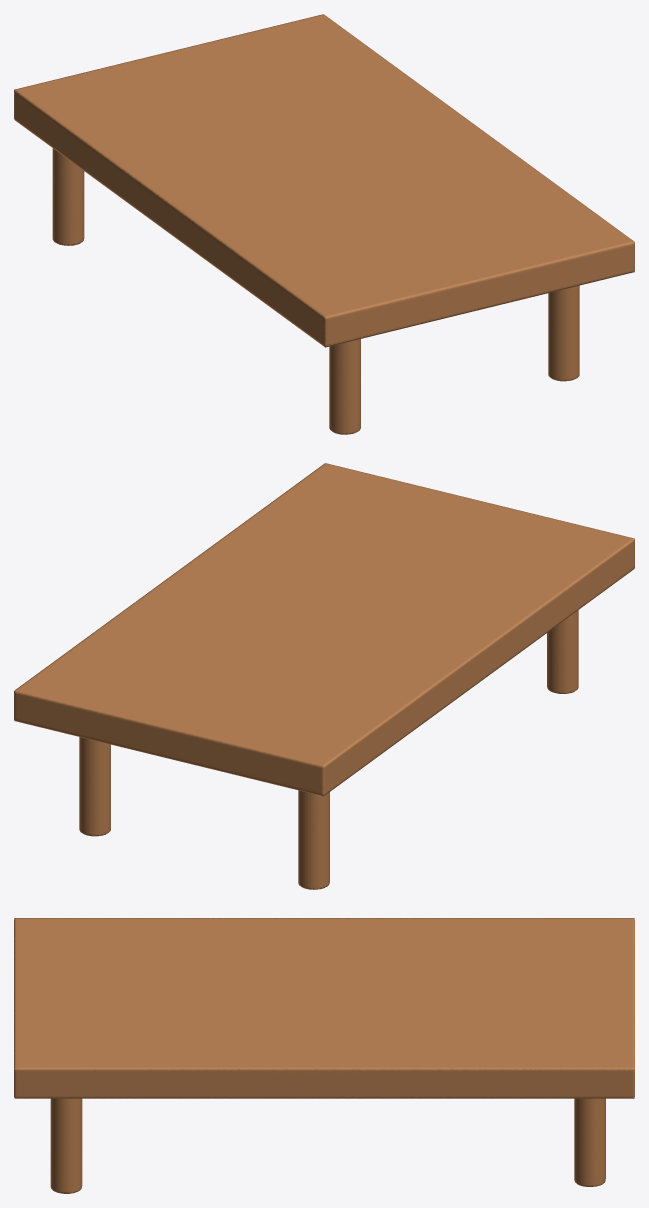
The model's file is shortTable_compressed.glb.
The picture shows the model from 3 angles, top to bottom: view 1: azimuth 30°, elevation 25°; view 2: azimuth 150°, elevation 25°; view 3: azimuth 270°, elevation 25°; orthographic projection.
Size of the model in its own units: 100 by 43.63 by 174.
Materials: 1 (1 with a texture image).
